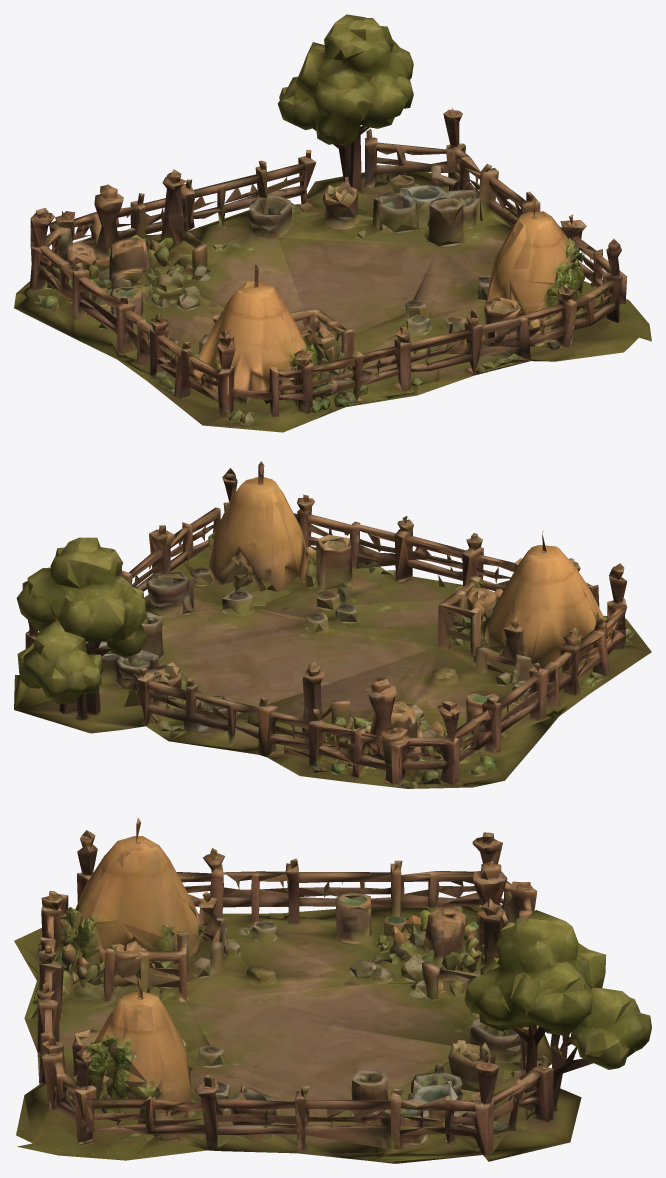
The model's file is farm-hut-terrain.glb.
3 views of the same model, one above another, from view 1: azimuth 30°, elevation 25°; view 2: azimuth 150°, elevation 25°; view 3: azimuth 270°, elevation 25° (orthographic). The views are drawn at different scales.
Parts seen in each view (by area): view 1: output_unwrapped; view 2: output_unwrapped; view 3: output_unwrapped.
Boxes of the visible parts, x1,y1,x2,y2 form: output_unwrapped: [14, 14, 651, 432]; output_unwrapped: [14, 461, 651, 788]; output_unwrapped: [14, 817, 651, 1163].
Size of the model in its own units: 11.42 by 4 by 11.65.
Materials: 1 (1 with a texture image).
